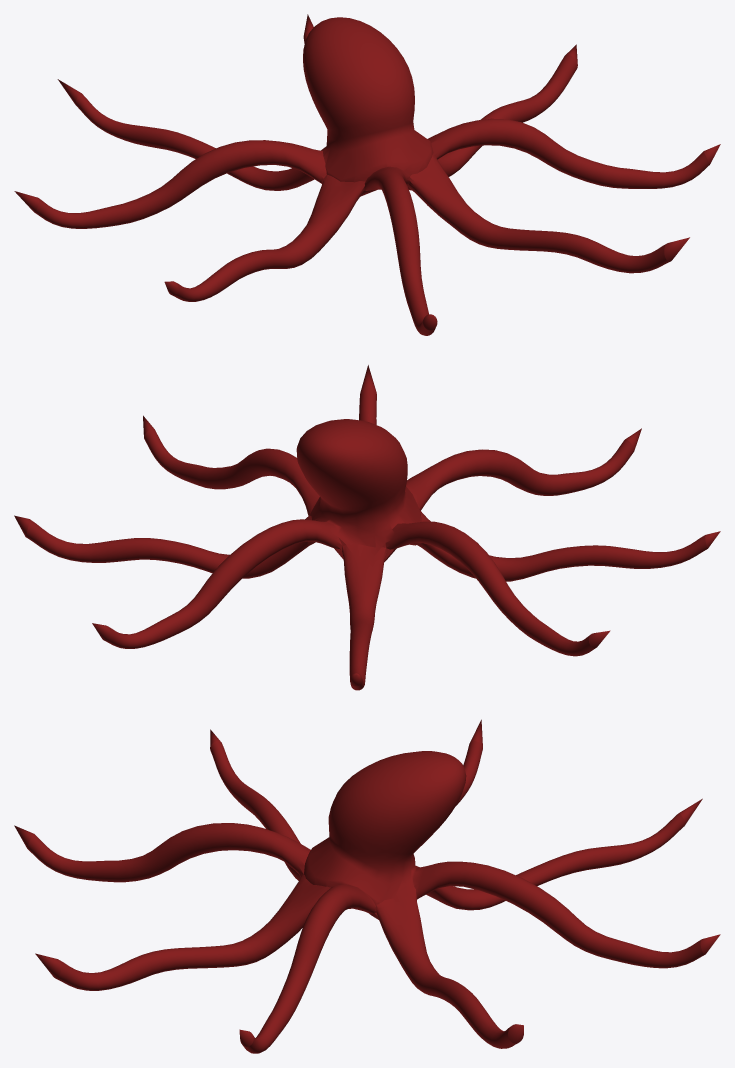
The model's file is tako_2.obj.
3 views of the same model, one above another, from view 1: azimuth 30°, elevation 25°; view 2: azimuth 150°, elevation 25°; view 3: azimuth 270°, elevation 25° (orthographic). The views are drawn at different scales.
Visible parts, largest first — view 1: pCylinder2; view 2: pCylinder2; view 3: pCylinder2.
Part boxes in pixels (bbox=[...]): pCylinder2: bbox=[14, 14, 720, 335]; pCylinder2: bbox=[14, 365, 720, 690]; pCylinder2: bbox=[14, 719, 720, 1053].
Bounding box in the file's own units: 13.72 × 3.91 × 13.74.
